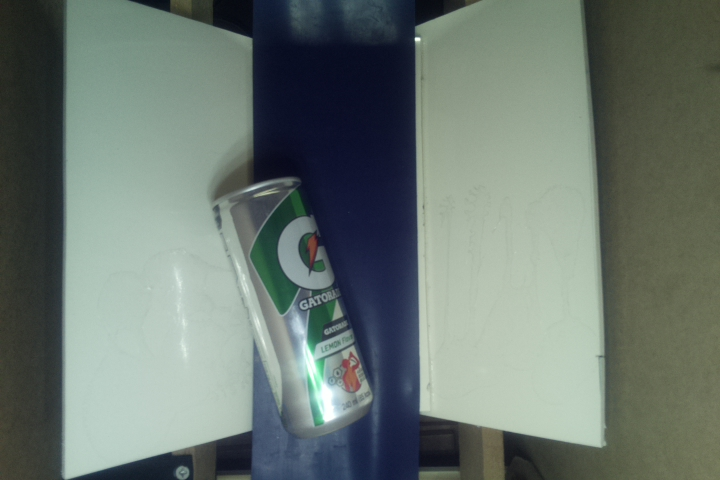can: (208, 178, 371, 442)
